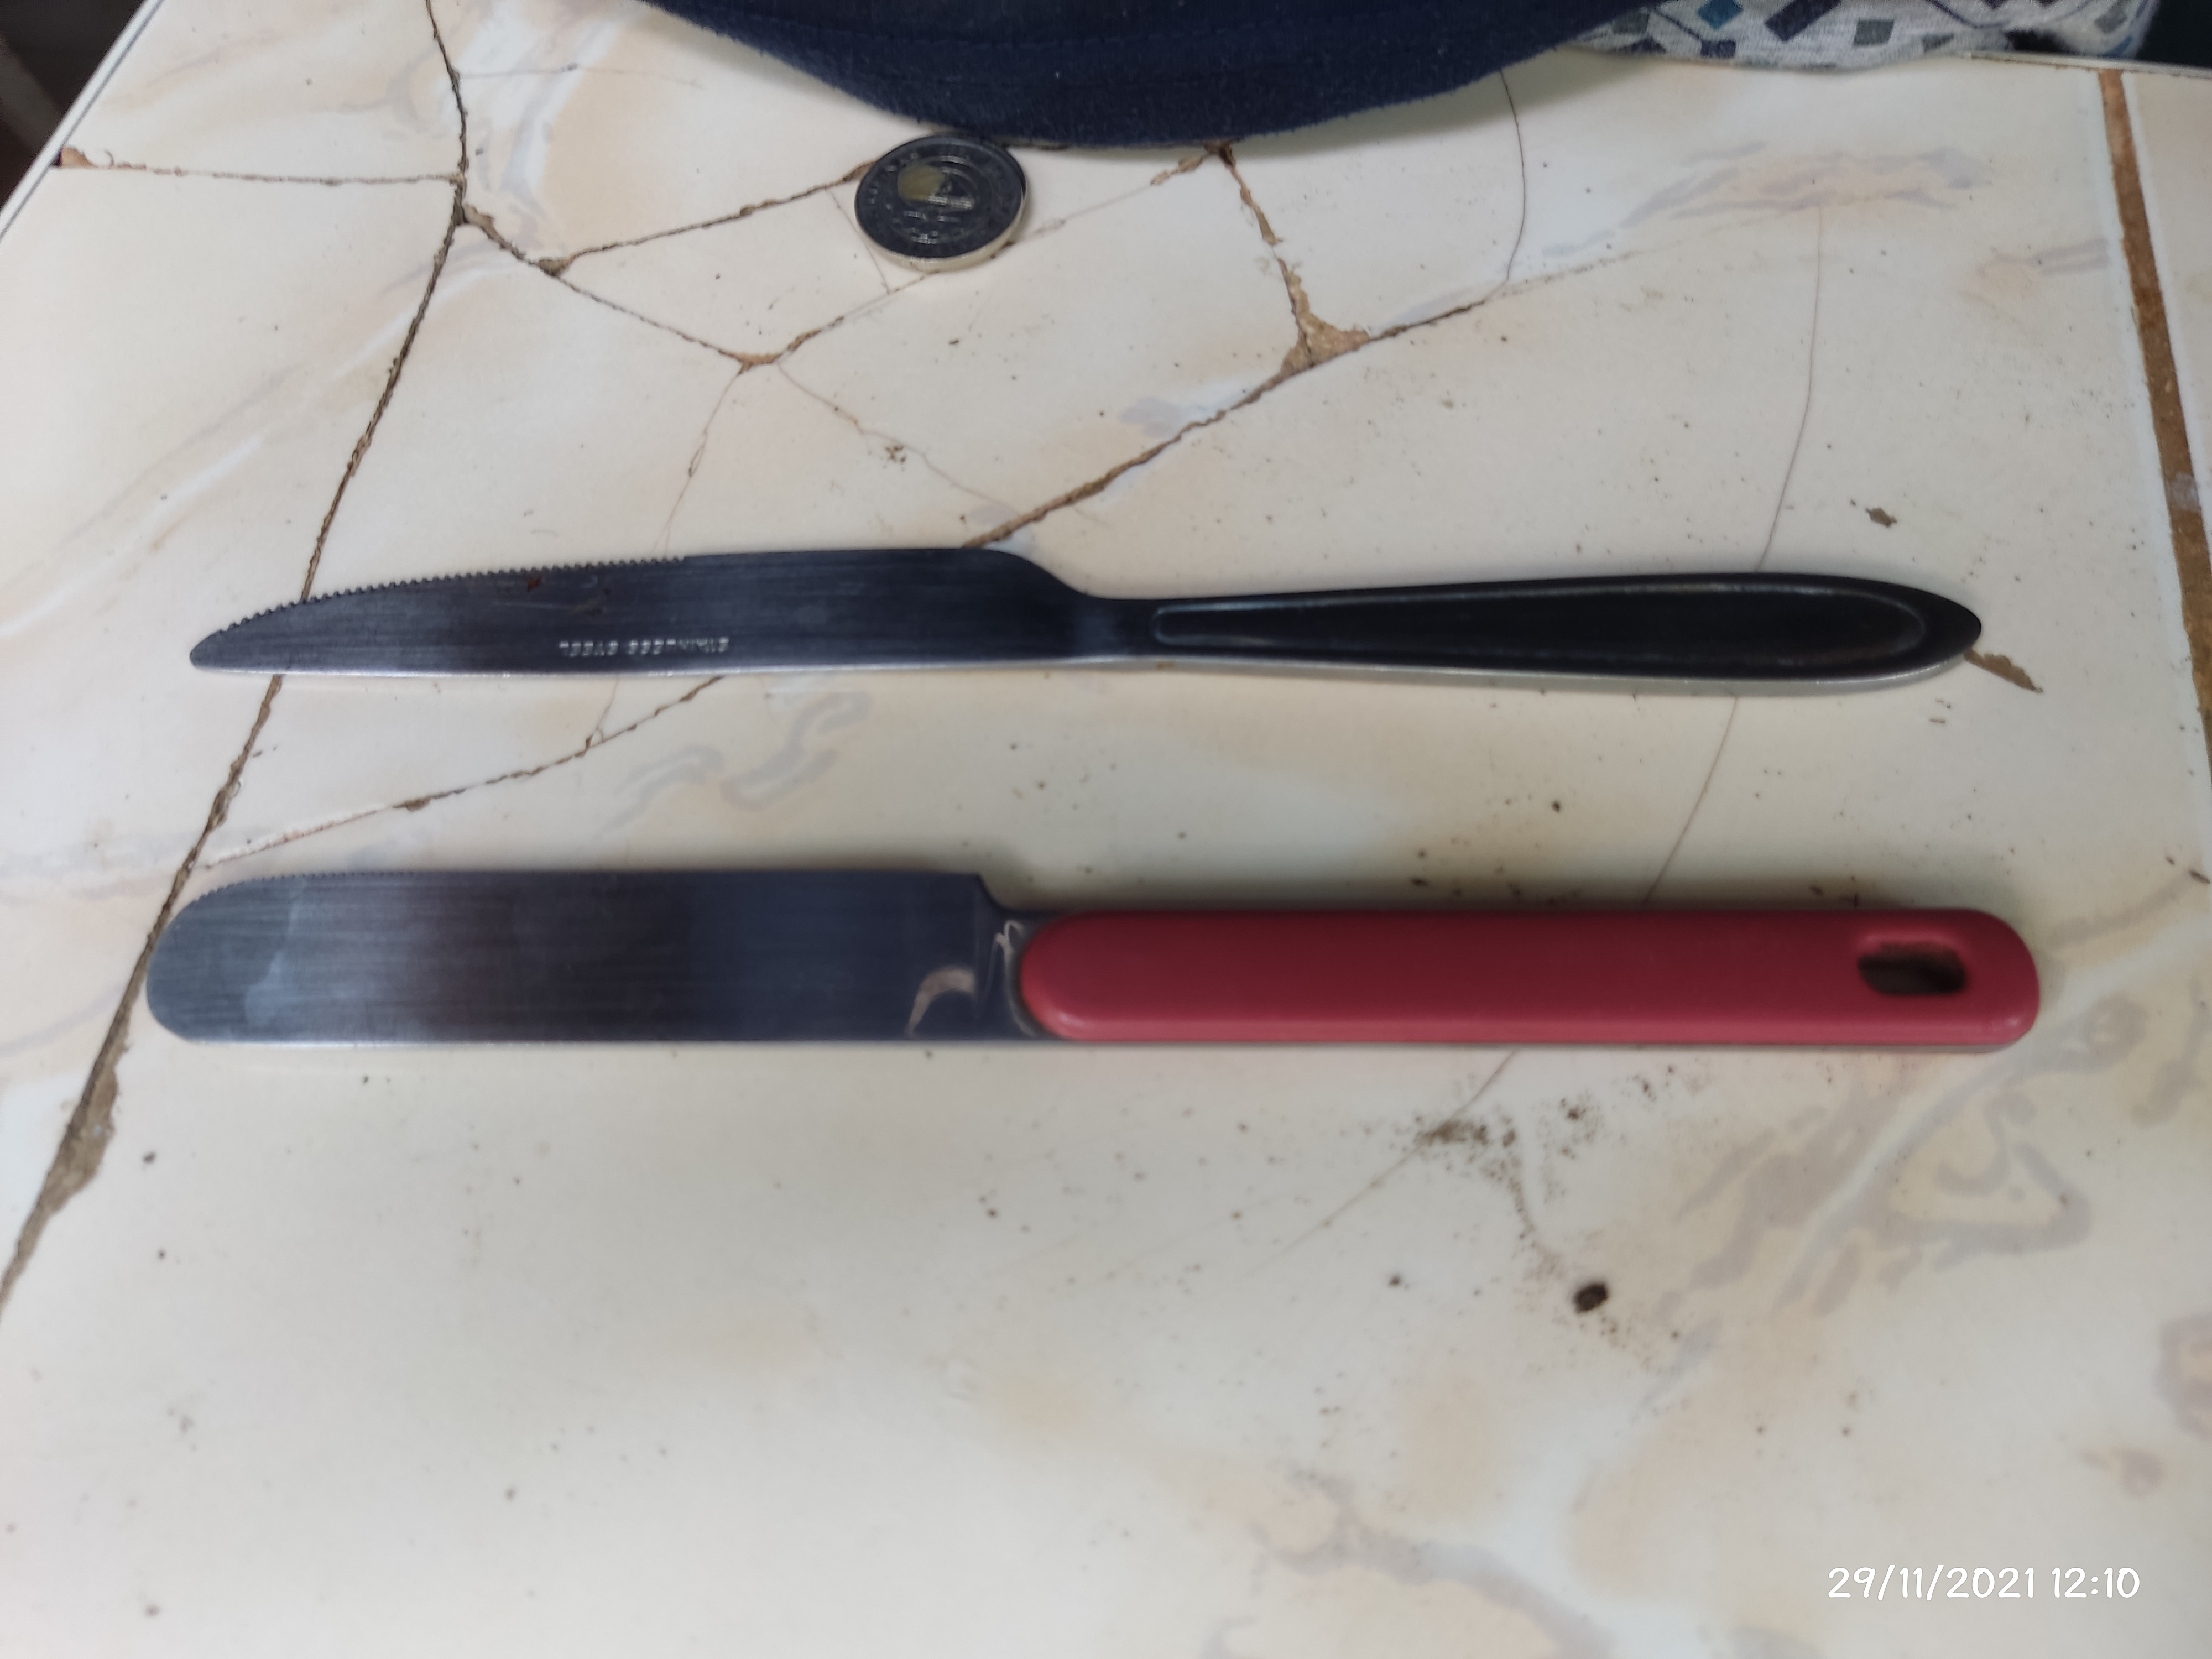knife: (188, 540, 1986, 692)
